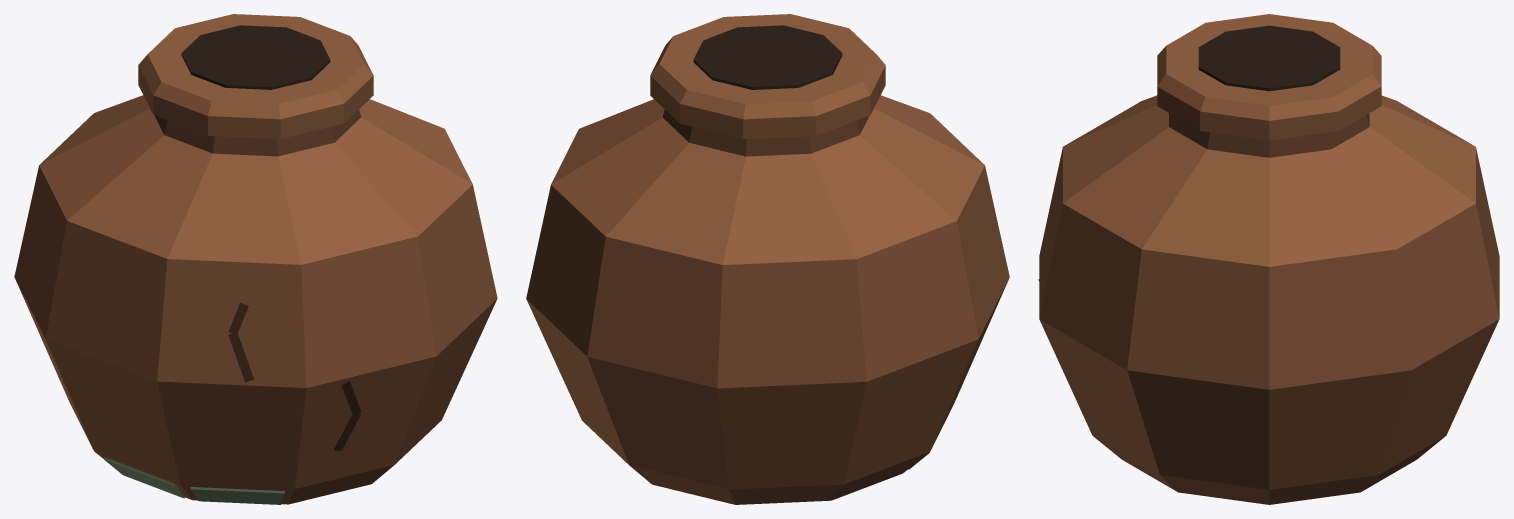
File: MODEL-DESTRUCTIBLE_Jar_Intact.fbx
3 renders of one model, left to right at view 1: azimuth 30°, elevation 25°; view 2: azimuth 150°, elevation 25°; view 3: azimuth 270°, elevation 25°, orthographic.
Parts seen in each view (by area): view 1: Jar_Intact; view 2: Jar_Intact; view 3: Jar_Intact.
Boxes of the visible parts, x1=… form: Jar_Intact: x1=14, y1=14, x2=497, y2=504; Jar_Intact: x1=526, y1=14, x2=1009, y2=504; Jar_Intact: x1=1038, y1=14, x2=1499, y2=504.
Bounding box in the file's own units: 0.78 × 0.68 × 0.7432.
Materials: 1 (1 with a texture image).
